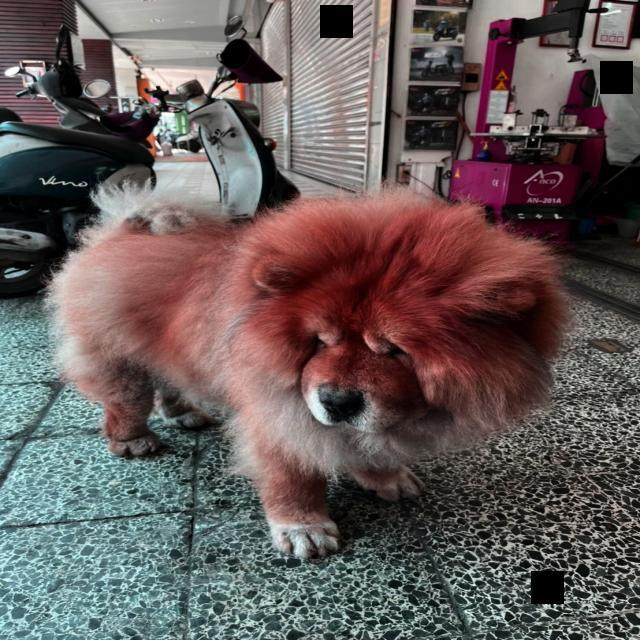adult_dog: (40, 178, 580, 563)
